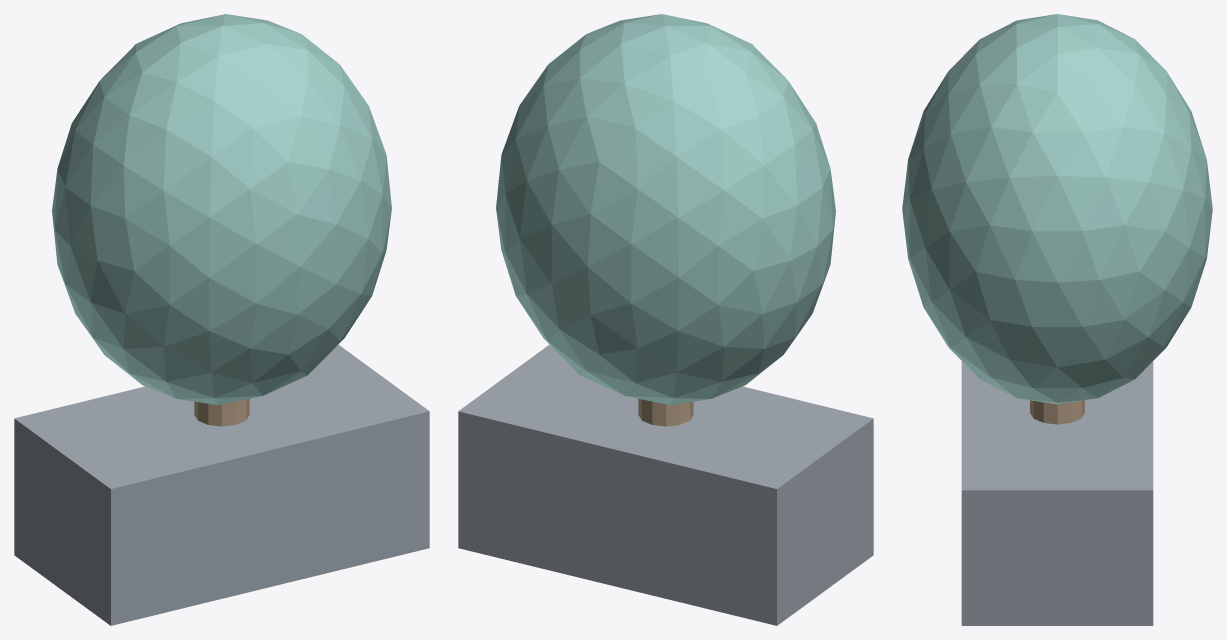
File: planter.glb
3 renders of one model, left to right at view 1: azimuth 30°, elevation 25°; view 2: azimuth 150°, elevation 25°; view 3: azimuth 270°, elevation 25°, orthographic.
Parts seen in each view (by area): view 1: green, concrete, wood; view 2: green, concrete, wood; view 3: green, concrete, wood.
Part boxes in pixels (left/top/right/bottom): green: left=52, top=14, right=391, bottom=405; concrete: left=14, top=344, right=429, bottom=625; wood: left=194, top=398, right=249, bottom=426; green: left=496, top=14, right=835, bottom=405; concrete: left=458, top=344, right=873, bottom=625; wood: left=638, top=398, right=693, bottom=426; green: left=902, top=14, right=1212, bottom=404; concrete: left=961, top=361, right=1153, bottom=625; wood: left=1030, top=400, right=1084, bottom=424.
Size of the model in its own units: 2 by 3.15 by 1.7.
